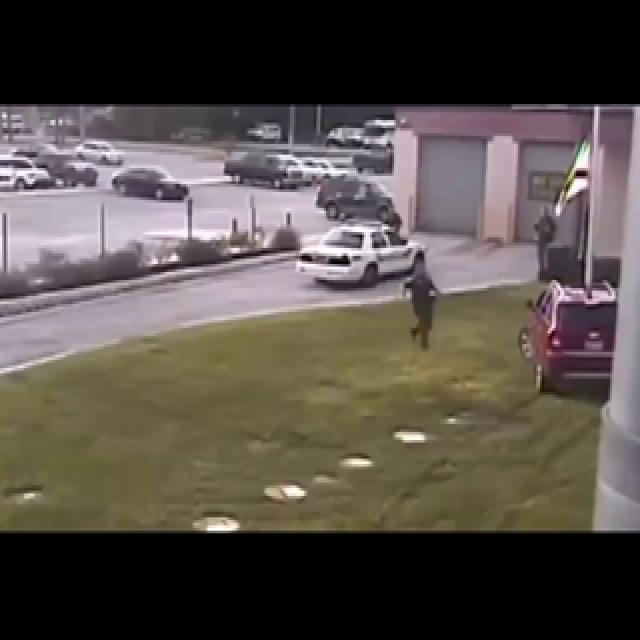arrest: (354, 137, 617, 426)
